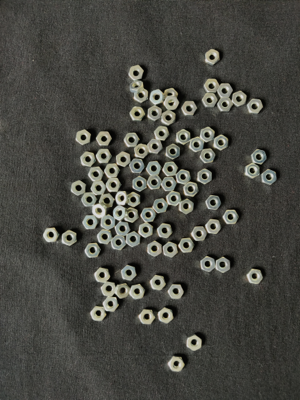nut: (168, 356, 185, 373), (187, 335, 203, 352), (200, 256, 216, 273), (247, 269, 264, 285), (247, 99, 264, 115), (158, 308, 174, 324), (103, 297, 119, 313), (121, 265, 137, 281), (150, 275, 166, 291), (163, 242, 179, 258), (157, 223, 173, 239), (116, 152, 132, 168), (189, 137, 205, 153), (261, 169, 277, 185), (251, 149, 267, 165), (129, 65, 145, 81), (94, 268, 111, 283), (85, 243, 102, 258), (62, 230, 77, 247), (43, 228, 60, 243), (191, 227, 208, 242), (147, 241, 162, 258), (113, 205, 128, 222), (183, 182, 200, 197), (80, 152, 97, 167), (200, 149, 217, 164), (205, 49, 220, 66), (138, 311, 156, 325), (91, 307, 107, 322), (115, 284, 131, 299), (130, 285, 146, 300), (216, 257, 231, 273), (223, 210, 239, 225), (206, 219, 222, 234), (179, 238, 195, 253), (126, 232, 141, 248), (111, 236, 127, 251), (97, 230, 113, 245), (206, 195, 222, 210), (115, 222, 131, 237), (83, 215, 99, 230), (179, 199, 194, 215), (167, 191, 182, 207), (141, 208, 157, 223), (153, 199, 169, 214), (71, 181, 87, 196), (91, 181, 107, 196), (147, 176, 163, 191), (161, 177, 177, 192), (198, 169, 213, 185), (88, 167, 104, 182), (163, 162, 179, 177), (147, 161, 163, 176), (96, 149, 112, 164), (76, 130, 92, 145), (148, 139, 164, 154), (166, 144, 181, 160), (245, 163, 260, 179), (200, 127, 215, 143), (176, 130, 191, 146), (130, 107, 146, 122), (150, 90, 165, 106), (202, 93, 218, 108), (232, 91, 247, 107), (168, 285, 185, 299), (81, 193, 98, 207), (96, 132, 113, 146), (181, 102, 198, 116), (101, 282, 116, 297), (101, 215, 116, 230), (93, 204, 108, 219), (176, 170, 191, 185), (130, 159, 145, 174), (135, 144, 150, 159), (162, 111, 177, 126), (125, 208, 139, 224), (99, 194, 115, 208), (106, 178, 122, 192), (133, 176, 147, 192), (124, 133, 140, 147), (214, 135, 228, 151), (154, 127, 170, 141), (148, 106, 162, 122), (164, 88, 178, 104), (218, 98, 234, 112), (218, 84, 234, 98), (204, 79, 220, 93), (139, 223, 153, 238), (116, 191, 130, 206), (105, 164, 120, 178), (134, 89, 148, 104), (128, 192, 141, 208), (164, 97, 180, 110), (130, 81, 144, 93)
